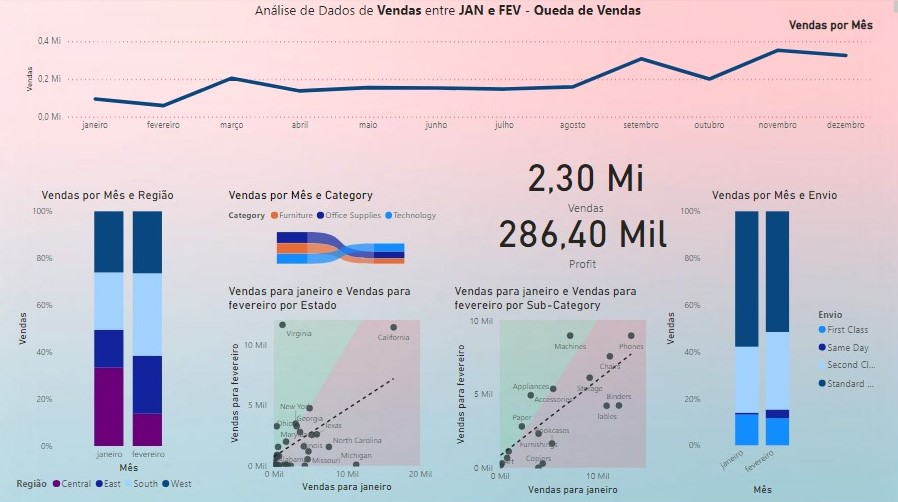

This screenshot's page, from the dashboard's own definition file:
{"tool":"powerbi","page":{"name":"Mes (1-2)","canvas":[1280,720],"ordinal":2},"visuals":[{"type":"scatterChart","fields":{"Category":["Orders.Sub-Category"],"X":["FilteredEval(Sum(Orders.Sales), [{Condition(expr)}])"],"Y":["FilteredEval(Sum(Orders.Sales), [{Condition(expr)}])1"]},"box":[640.3,405.7,297.9,302.5],"z":0},{"type":"lineChart","title":"Vendas por Mês","fields":{"Category":["Orders.Order Date.Variation.Hierarquia de datas.Mês"],"Y":["Sum(Orders.Sales)"]},"box":[34.5,30.2,1208.6,169.6],"z":1000},{"type":"hundredPercentStackedColumnChart","title":"Vendas por Mês e Envio","fields":{"Category":["Orders.Order Date.Variation.Hierarquia de datas.Mês"],"Series":["Orders.Ship Mode"],"Y":["Sum(Orders.Sales)"]},"box":[938.1,269.7,321.3,438.6],"z":2000},{"type":"ribbonChart","fields":{"Category":["Orders.Order Date.Variation.Hierarquia de datas.Mês"],"Series":["Orders.Category"],"Y":["Sum(Orders.Sales)"]},"box":[321.1,270.2,338.1,113.2],"z":3000},{"type":"scatterChart","fields":{"Category":["Orders.State"],"X":["FilteredEval(Sum(Orders.Sales), [{Condition(expr)}])"],"Y":["FilteredEval(Sum(Orders.Sales), [{Condition(expr)}])1"]},"box":[321.3,405.7,297.9,300.2],"z":4000},{"type":"hundredPercentStackedColumnChart","title":"Vendas por Mês e Região","fields":{"Category":["Orders.Order Date.Variation.Hierarquia de datas.Mês"],"Series":["Orders.Region"],"Y":["Sum(Orders.Sales)"]},"box":[21.2,270.2,267.3,437.1],"z":5000},{"type":"textbox","box":[0,0,1280.5,30.2],"z":6000},{"type":"card","fields":{"Values":["Sum(Orders.Vendas)"]},"box":[659.2,191,343.7,135.8],"z":7000},{"type":"card","fields":{"Values":["Sum(Orders.Profit)"]},"box":[654.9,270.2,343.7,135.8],"z":8000}]}

Visuals, with their boxes in screenshot pixels (x1, y1, x2, y2), scaled from the page's 1280x720 canvas onto the 898x502 screenshot:
scatterChart - Orders.Sub-Category x FilteredEval(Sum(Orders.Sales), [{Condition(expr)}]): x1=449, y1=283, x2=658, y2=494
"Vendas por Mês" lineChart: x1=24, y1=21, x2=872, y2=139
"Vendas por Mês e Envio" hundredPercentStackedColumnChart: x1=658, y1=188, x2=884, y2=494
ribbonChart - Orders.Order Date.Variation.Hierarquia de datas.Mês x Orders.Category: x1=225, y1=188, x2=462, y2=267
scatterChart - Orders.State x FilteredEval(Sum(Orders.Sales), [{Condition(expr)}]): x1=225, y1=283, x2=434, y2=492
"Vendas por Mês e Região" hundredPercentStackedColumnChart: x1=15, y1=188, x2=202, y2=493
textbox: x1=0, y1=0, x2=897, y2=21
card - Sum(Orders.Vendas): x1=462, y1=133, x2=704, y2=228
card - Sum(Orders.Profit): x1=459, y1=188, x2=701, y2=283
